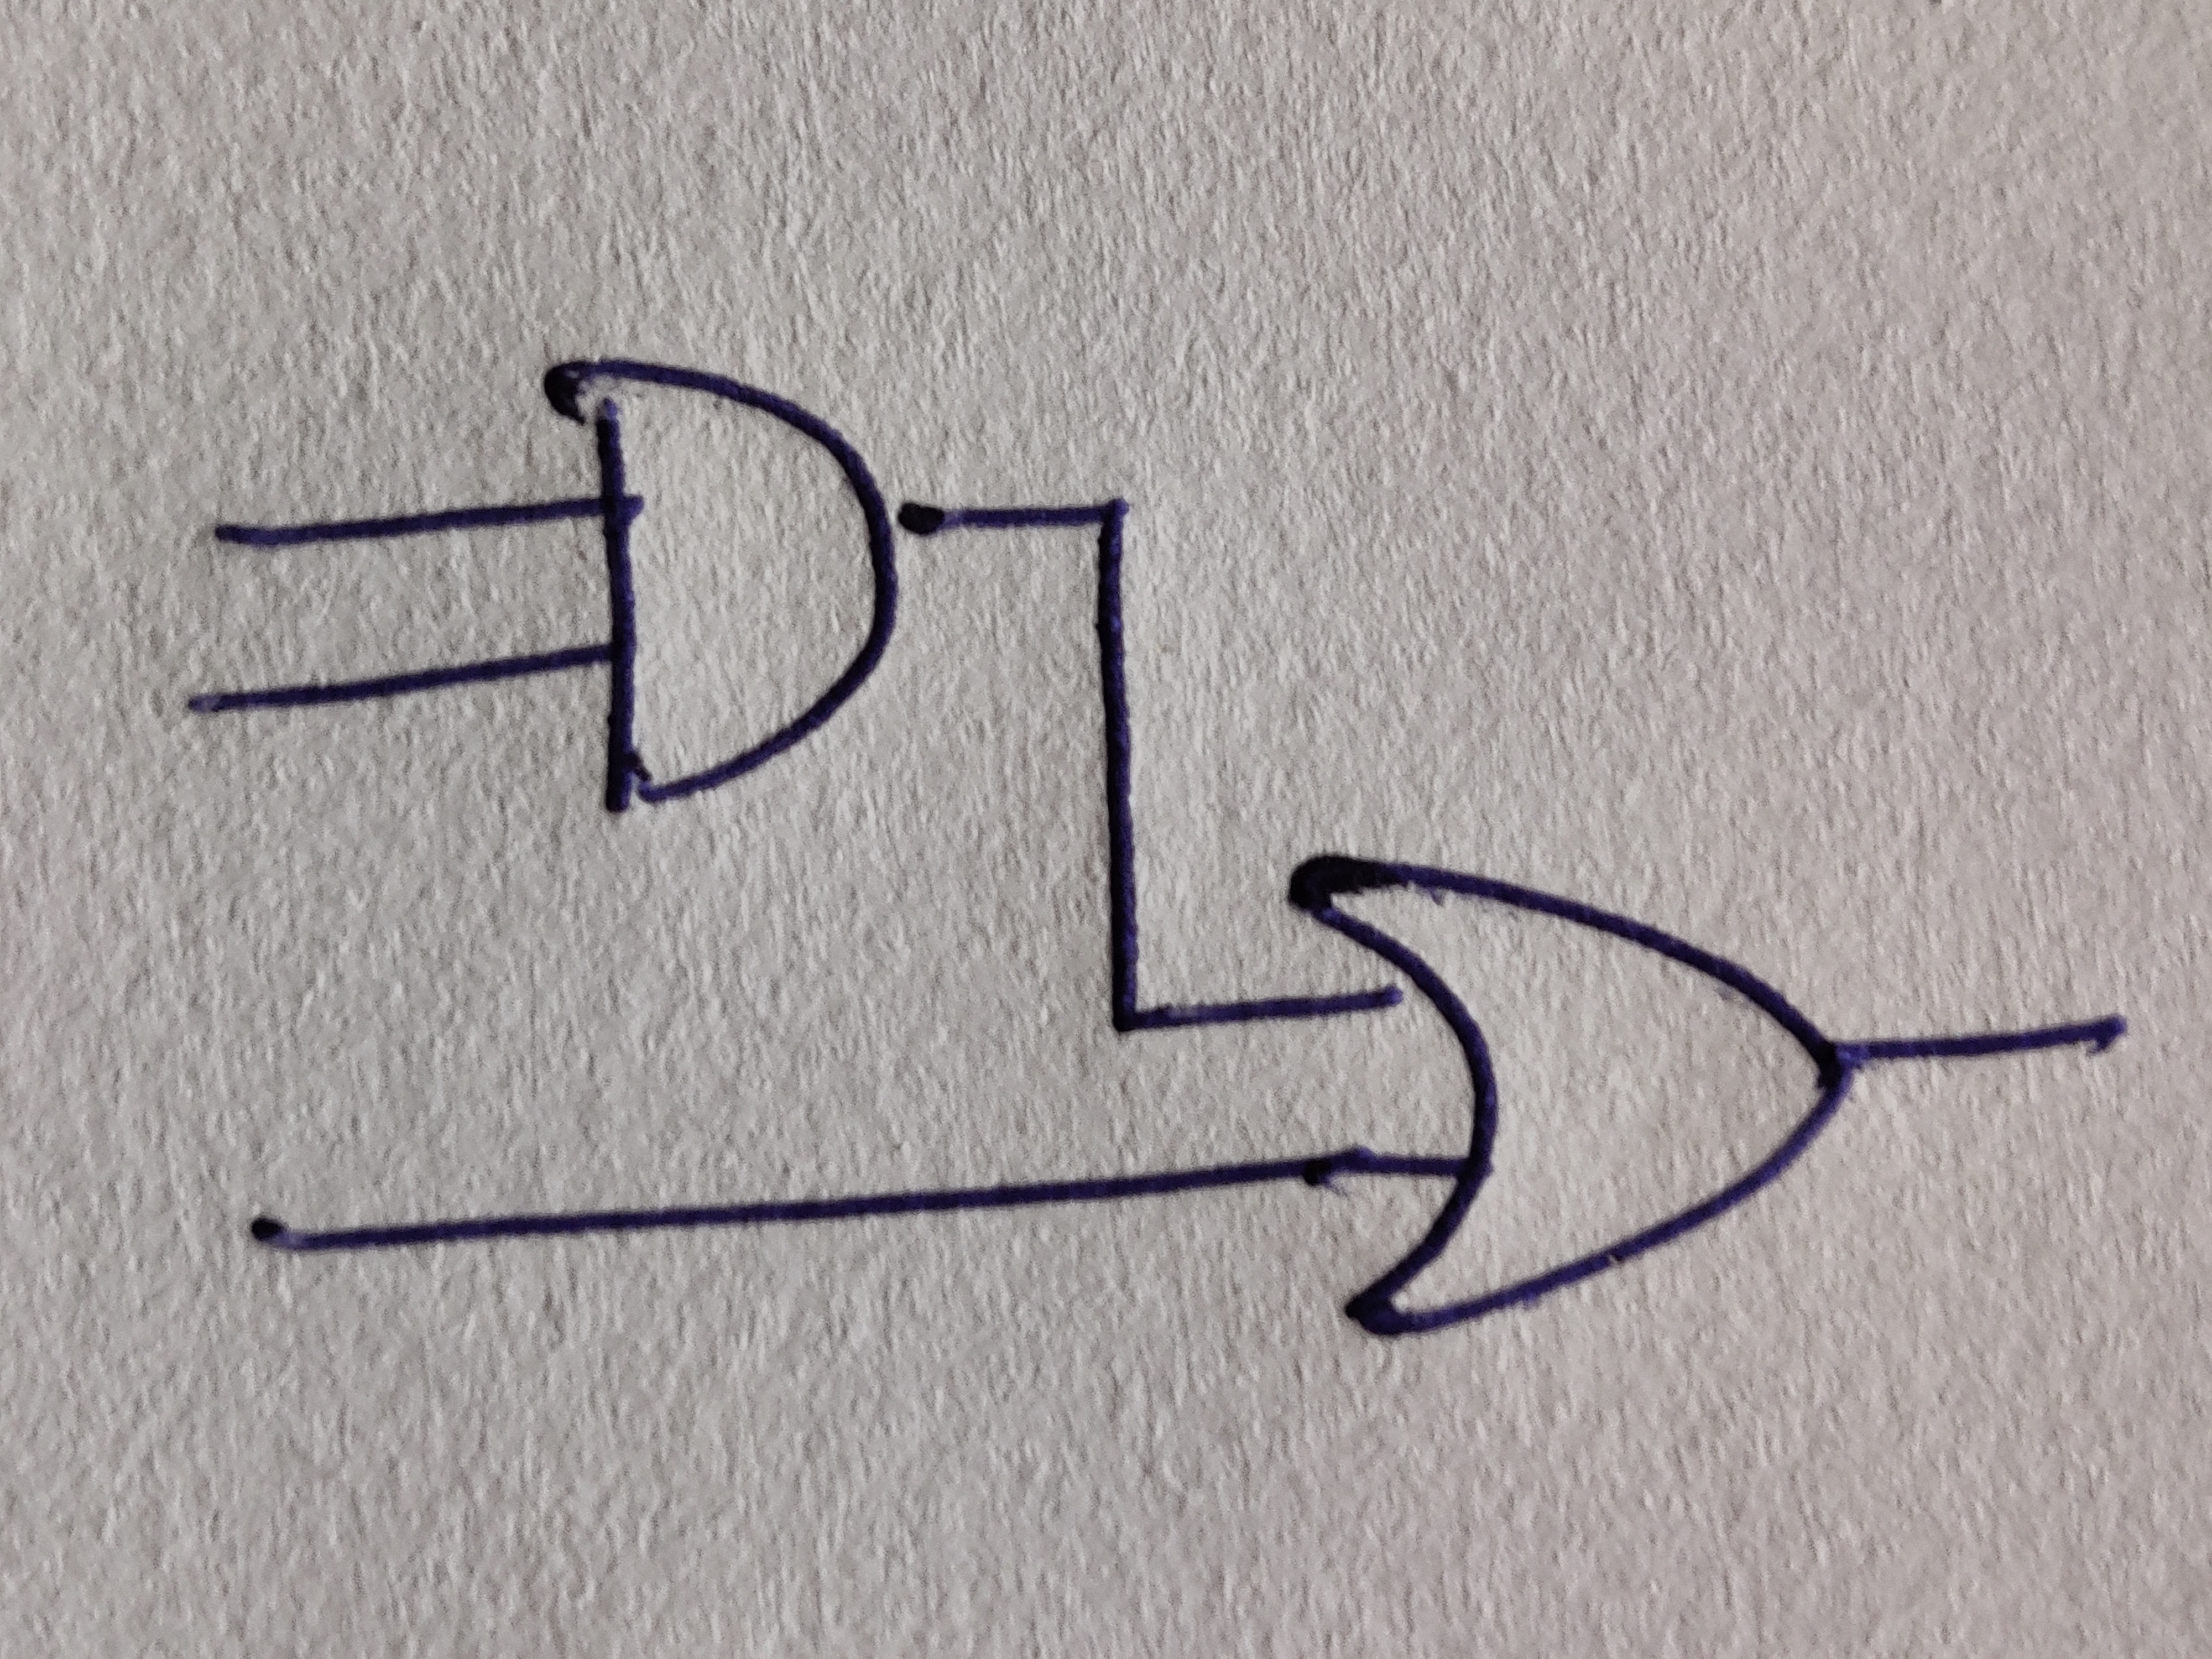and: (542, 359, 897, 810)
or: (1287, 857, 1857, 1340)
